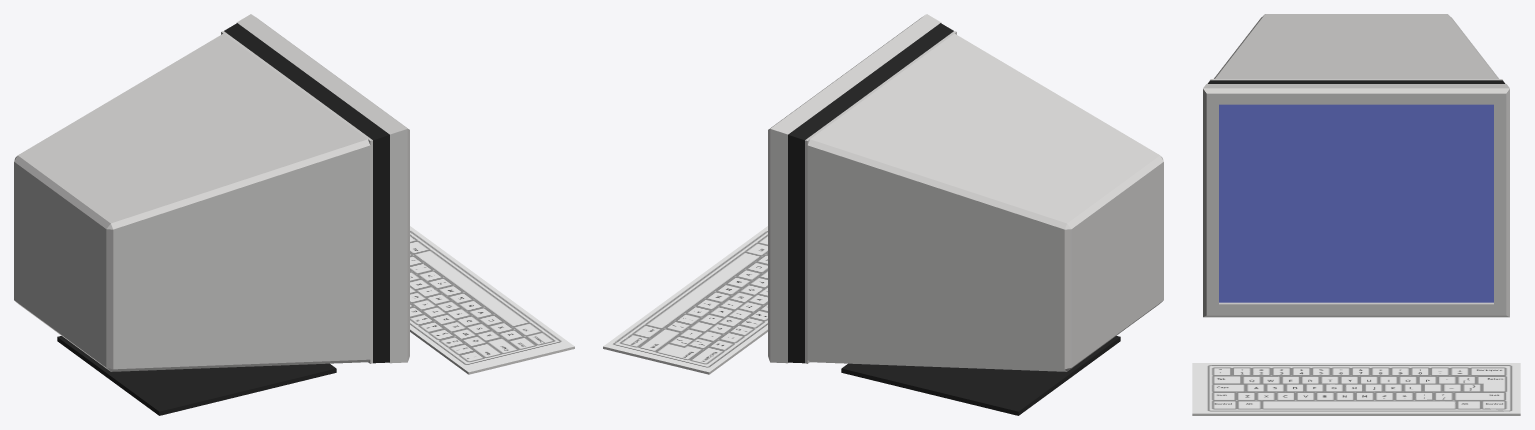
File: prop-computer.fbx
3 views of the same model, side by side, from view 1: azimuth 30°, elevation 25°; view 2: azimuth 150°, elevation 25°; view 3: azimuth 270°, elevation 25° (orthographic). The views are drawn at different scales.
Visible parts, largest first — view 1: Plane.001; view 2: Plane.001; view 3: Plane.001.
Boxes of the visible parts, left/top/right/bottom form: Plane.001: left=14, top=14, right=574, bottom=415; Plane.001: left=603, top=14, right=1163, bottom=415; Plane.001: left=1192, top=14, right=1520, bottom=415.
Bounding box in the file's own units: 93.69 × 53.13 × 63.12.
